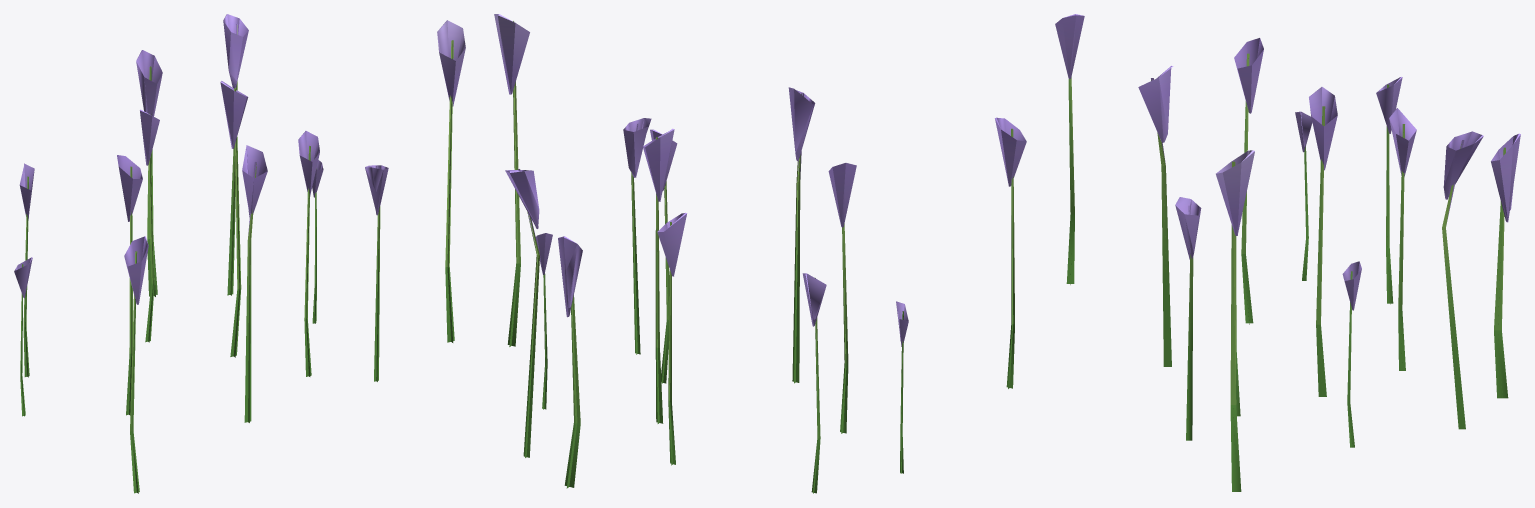
The model's file is flower_lavender_low.glb.
3 views of the same model, side by side, from view 1: azimuth 30°, elevation 25°; view 2: azimuth 150°, elevation 25°; view 3: azimuth 270°, elevation 25° (orthographic). The views are drawn at different scales.
Visible parts, largest first — view 1: Flower 5_2_C; view 2: Flower 5_2_C; view 3: Flower 5_2_C.
Boxes of the visible parts, bbox=[...] form: Flower 5_2_C: bbox=[14, 14, 465, 493]; Flower 5_2_C: bbox=[494, 14, 1026, 493]; Flower 5_2_C: bbox=[1055, 14, 1520, 491].
Size of the model in its own units: 0.5006 by 0.36 by 0.4419.
Materials: 1 (1 with a texture image).
